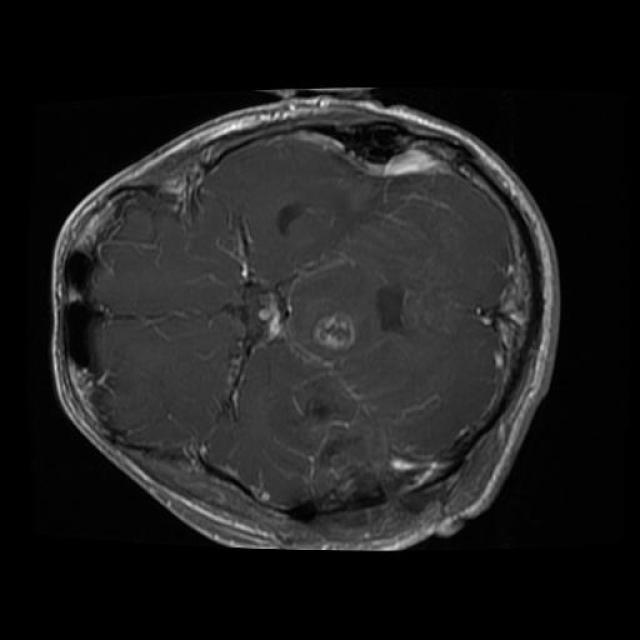Glioma: (313, 313, 354, 350)
